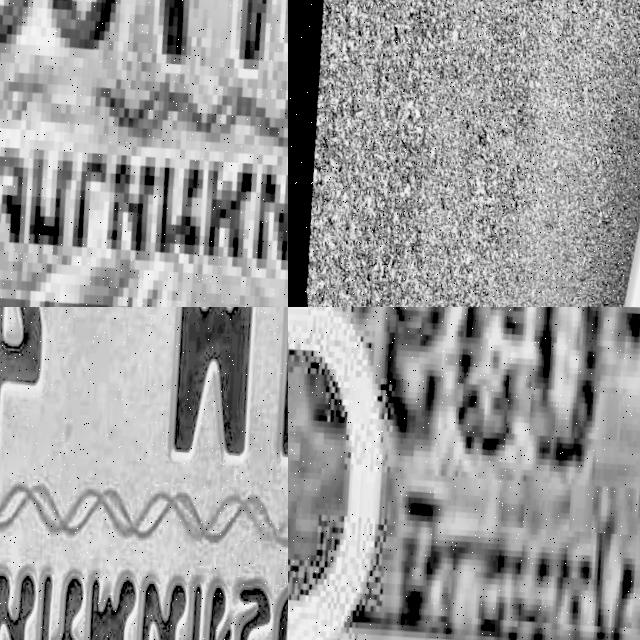license-plate: (288, 307, 640, 640), (0, 307, 288, 640), (0, 0, 288, 307)
